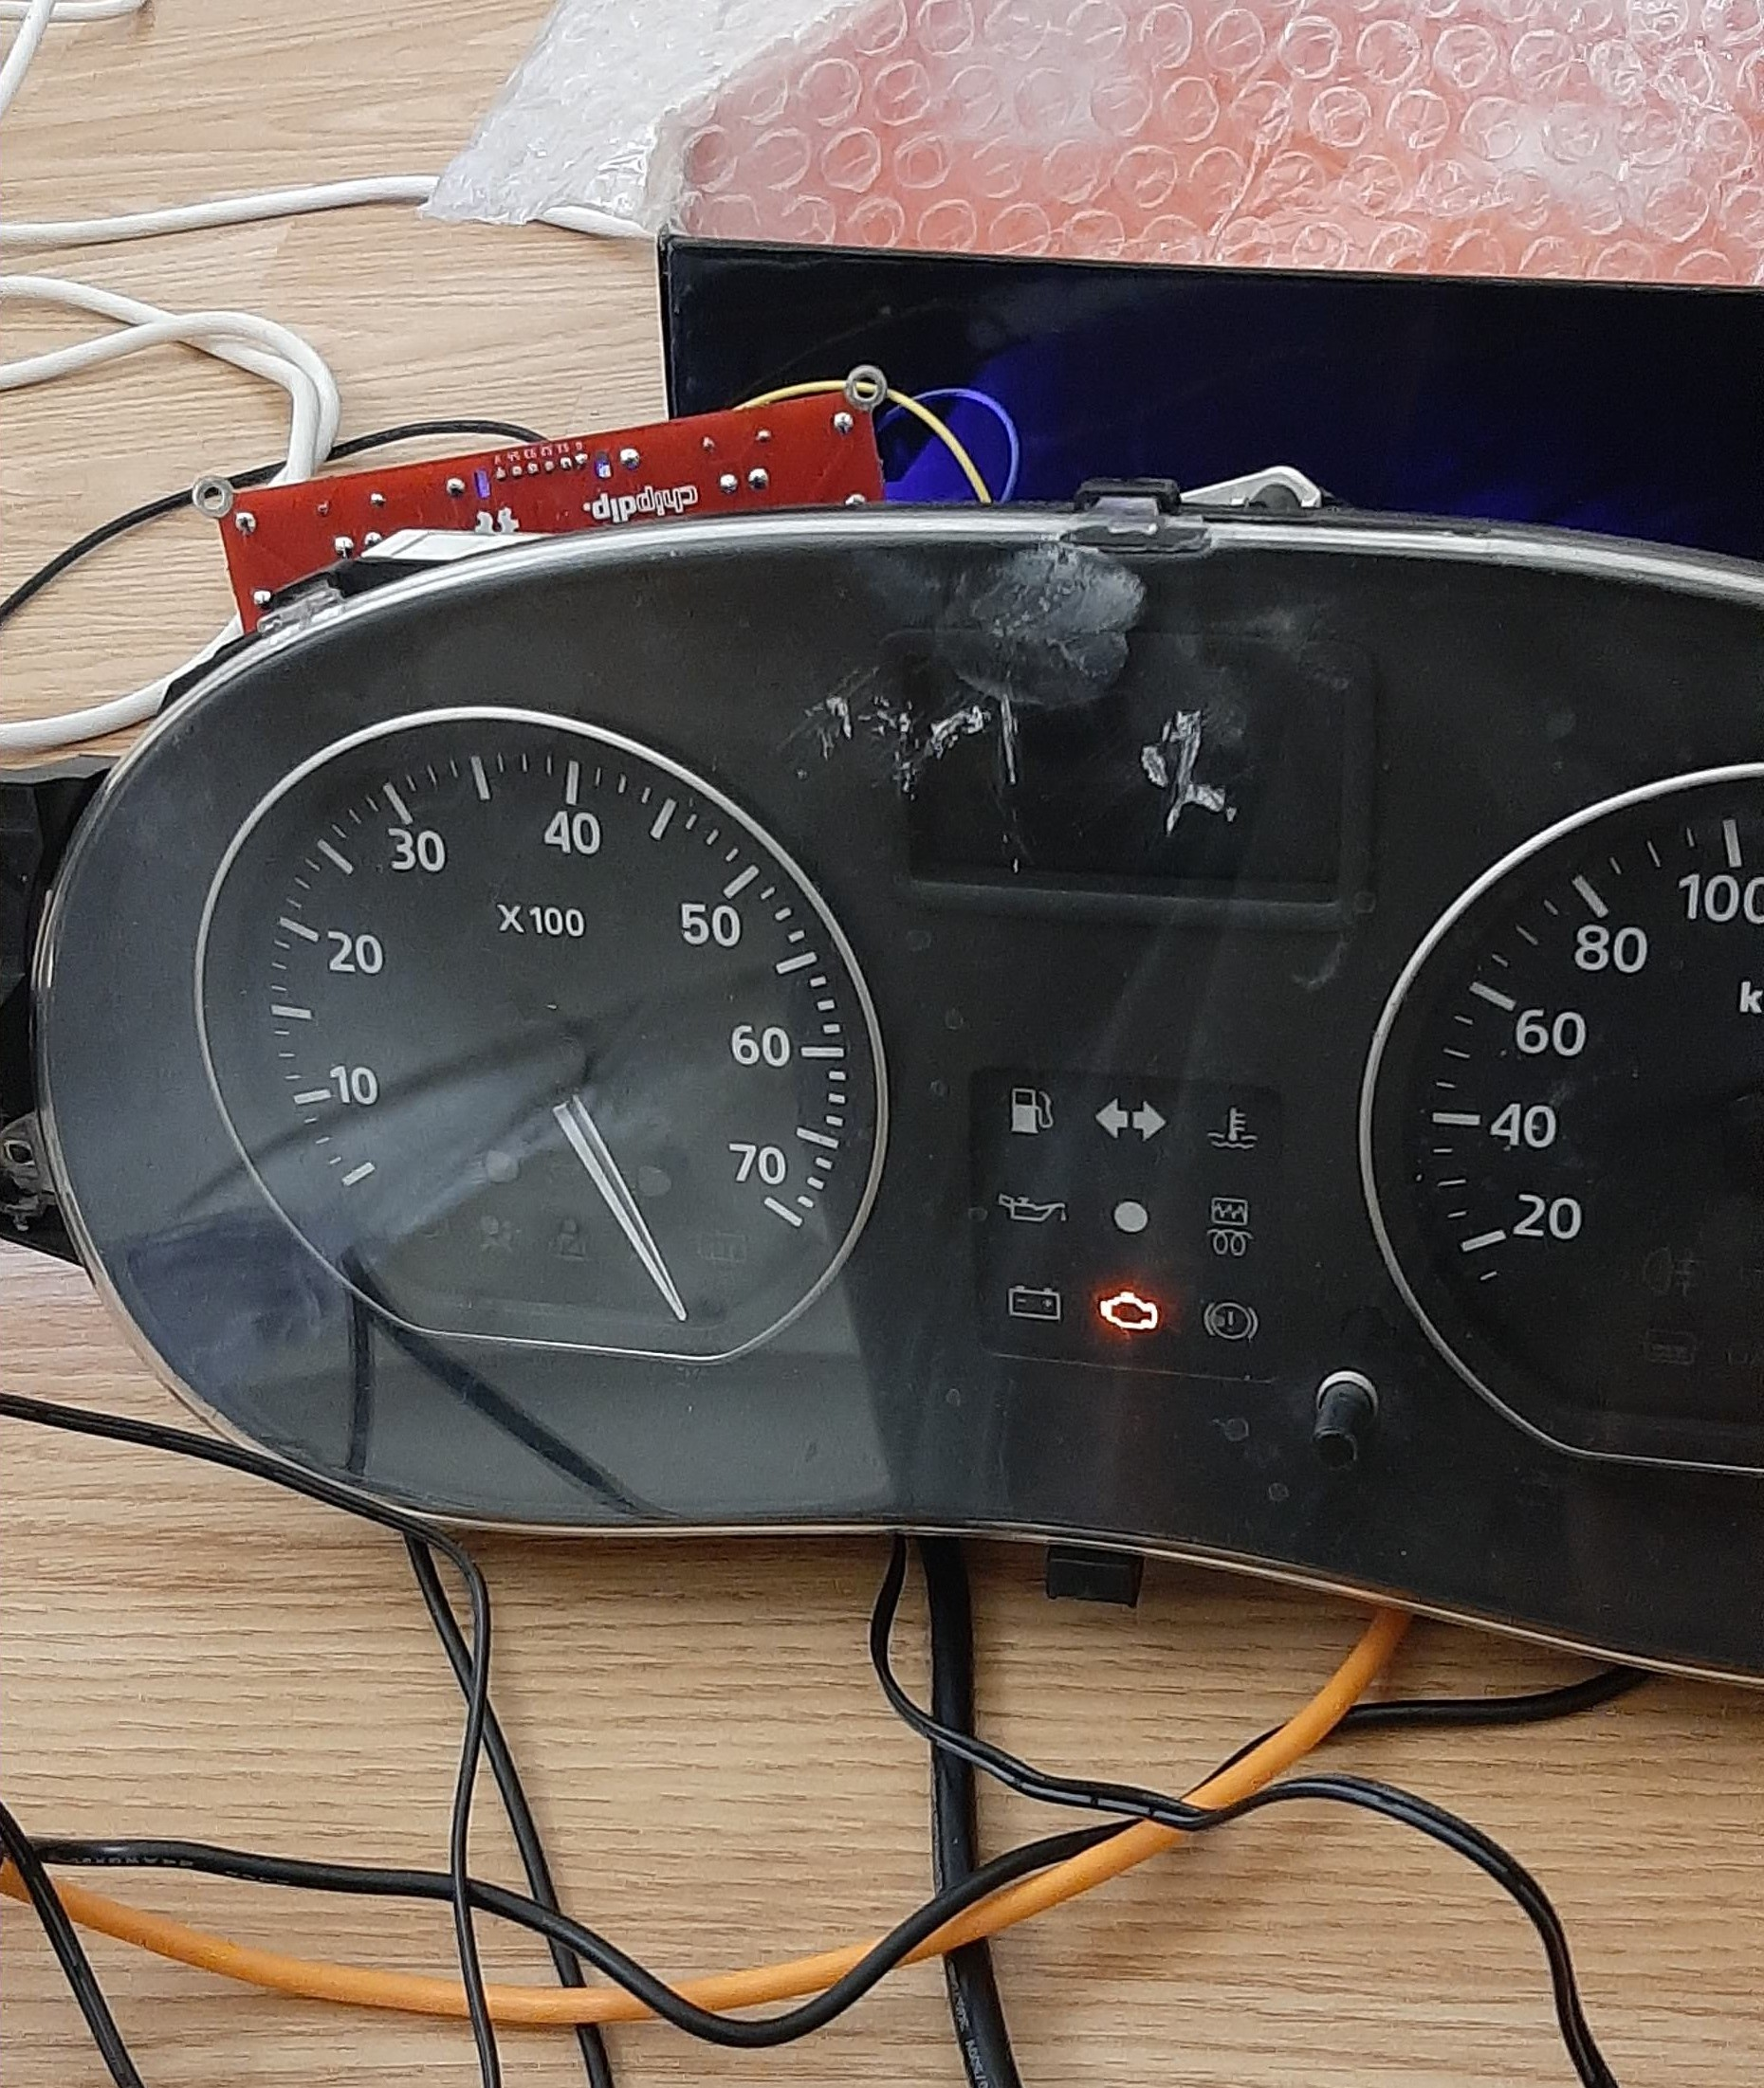engine24: (1095, 1286, 1160, 1332)
